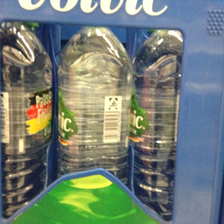water: (58, 25, 129, 188), (130, 29, 183, 224), (1, 23, 52, 224)
